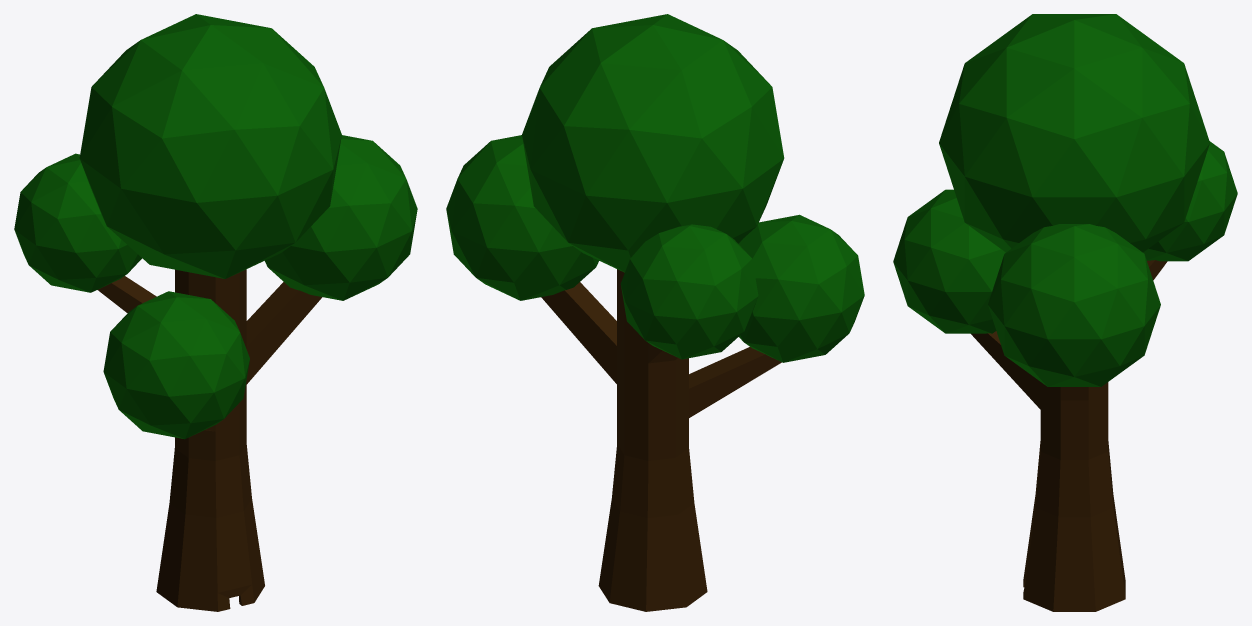
File: Grand Tree.fbx
3 renders of one model, left to right at view 1: azimuth 30°, elevation 25°; view 2: azimuth 150°, elevation 25°; view 3: azimuth 270°, elevation 25°, orthographic.
Visible parts, largest first — view 1: Grand Tree; view 2: Grand Tree; view 3: Grand Tree.
Boxes of the visible parts, <box> form: Grand Tree: <box>14,14,417,611</box>; Grand Tree: <box>446,14,864,611</box>; Grand Tree: <box>893,14,1237,611</box>.
Bounding box in the file's own units: 148820 × 234784 × 128602.
